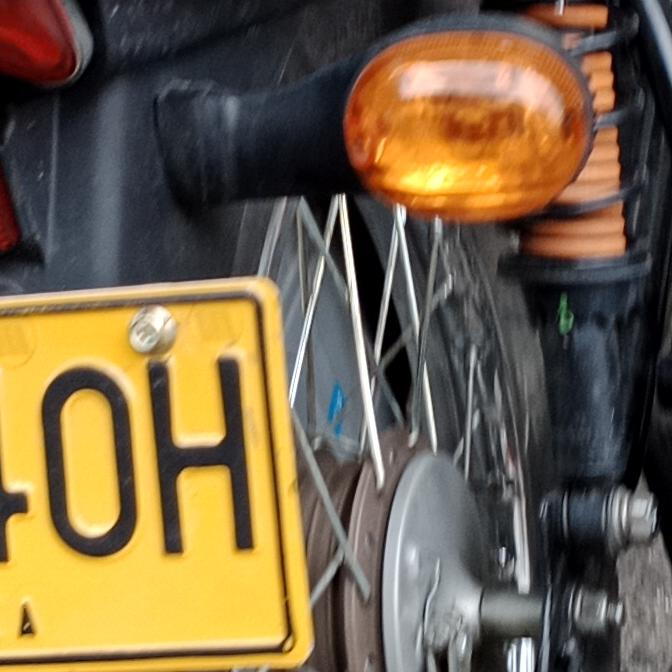plates: (0, 280, 319, 672)
